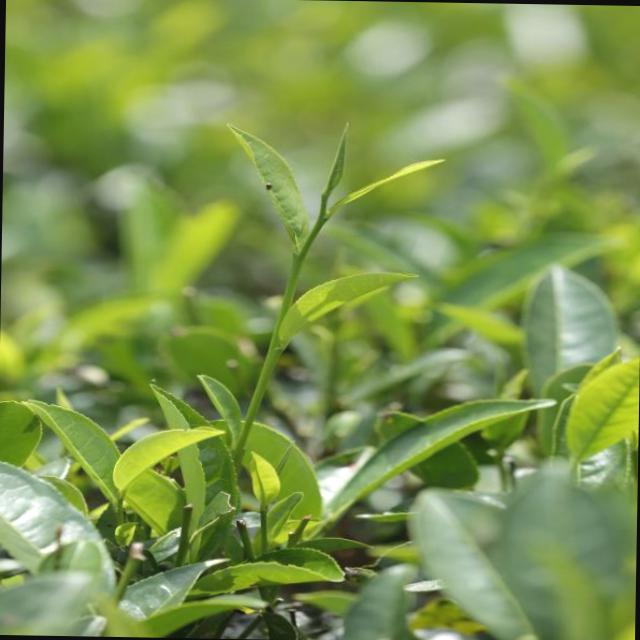Stem: (284, 266, 301, 297)
